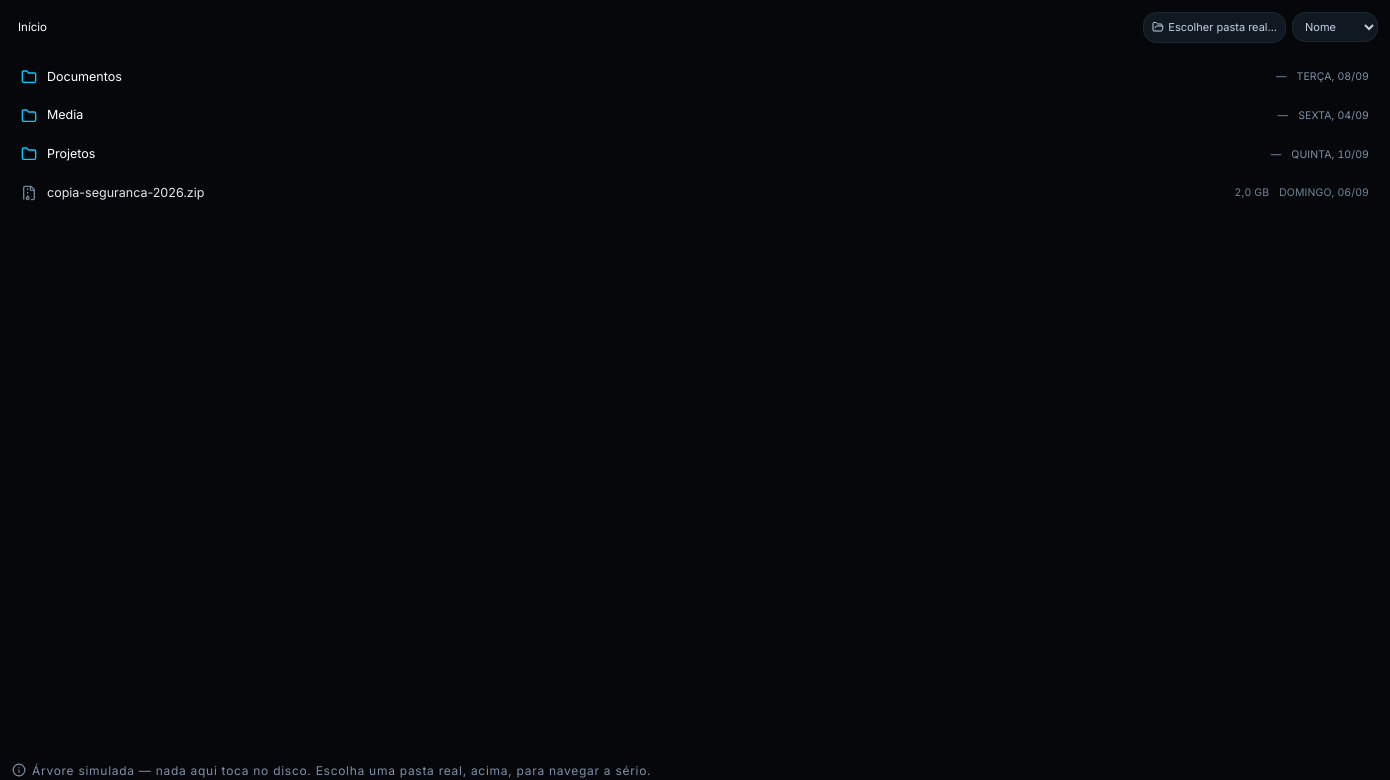
Scenario: FilesWindow — modo real › escolher uma pasta lista o que lá está a sério
Click the button "Escolher pasta real…".
click(1215, 27)  # box [1143,12,1286,42]
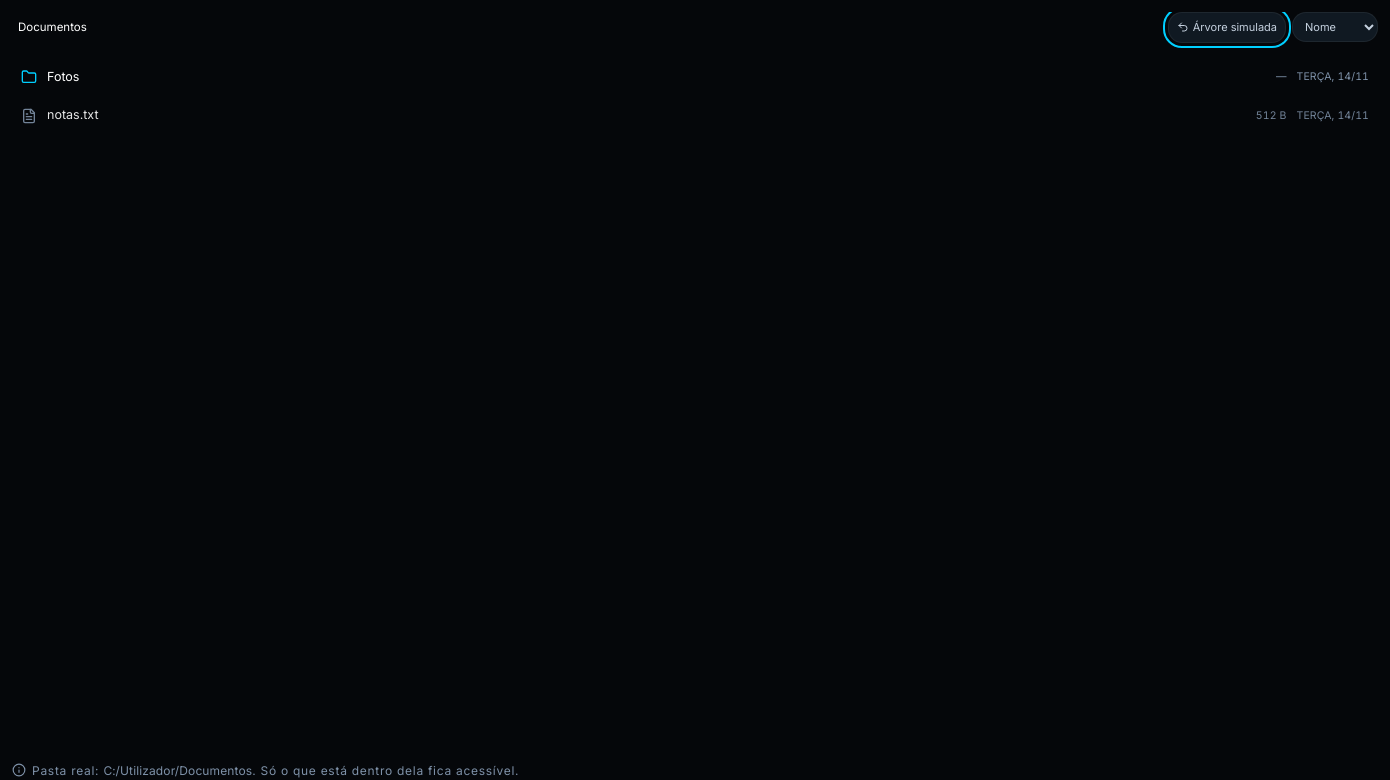
Now the button "Fotos — TERÇA, 14/11" is shown, box [12,58,1378,95]
Now the text "notas.txt" is shown, box [47,107,98,122]
Now the text "Pasta real:" is shown, box [32,763,103,778]
